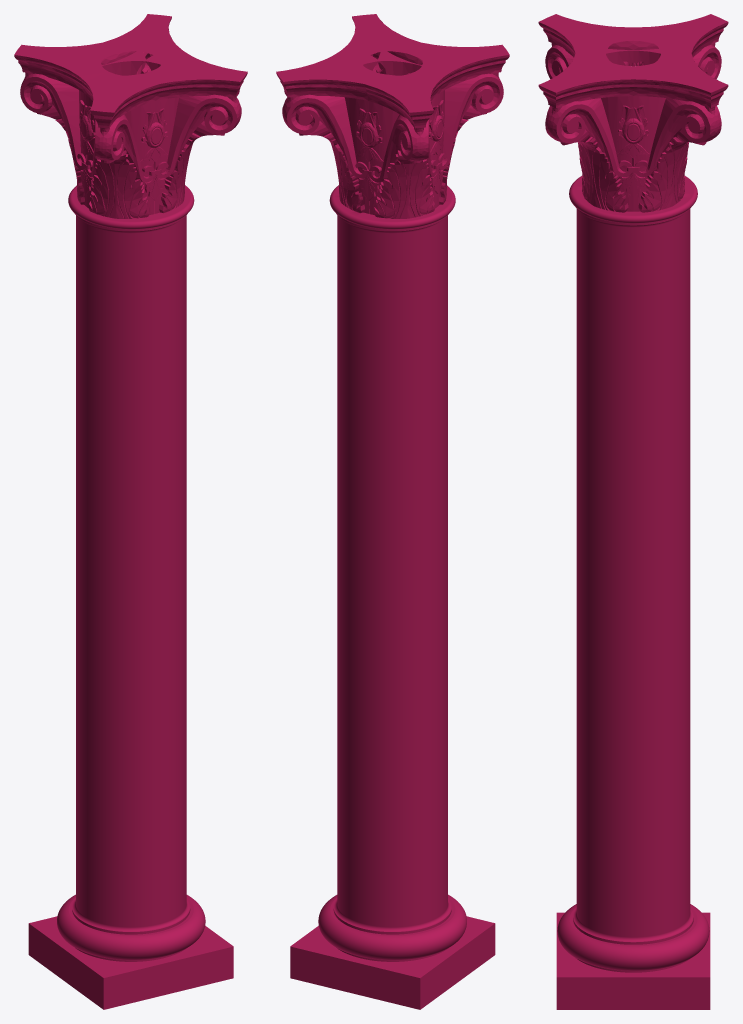
The picture shows the model from 3 angles, left to right: view 1: azimuth 30°, elevation 25°; view 2: azimuth 150°, elevation 25°; view 3: azimuth 270°, elevation 25°; orthographic projection. The views are drawn at different scales.
Visible parts, largest first — view 1: AC_KL355_1; view 2: AC_KL355_1; view 3: AC_KL355_1.
Boxes of the visible parts, x1,y1,x2,y2 form: AC_KL355_1: (14, 14, 247, 1009); AC_KL355_1: (276, 14, 509, 1009); AC_KL355_1: (538, 14, 728, 1009).
Size of the model in its own units: 650 by 3552 by 662.
